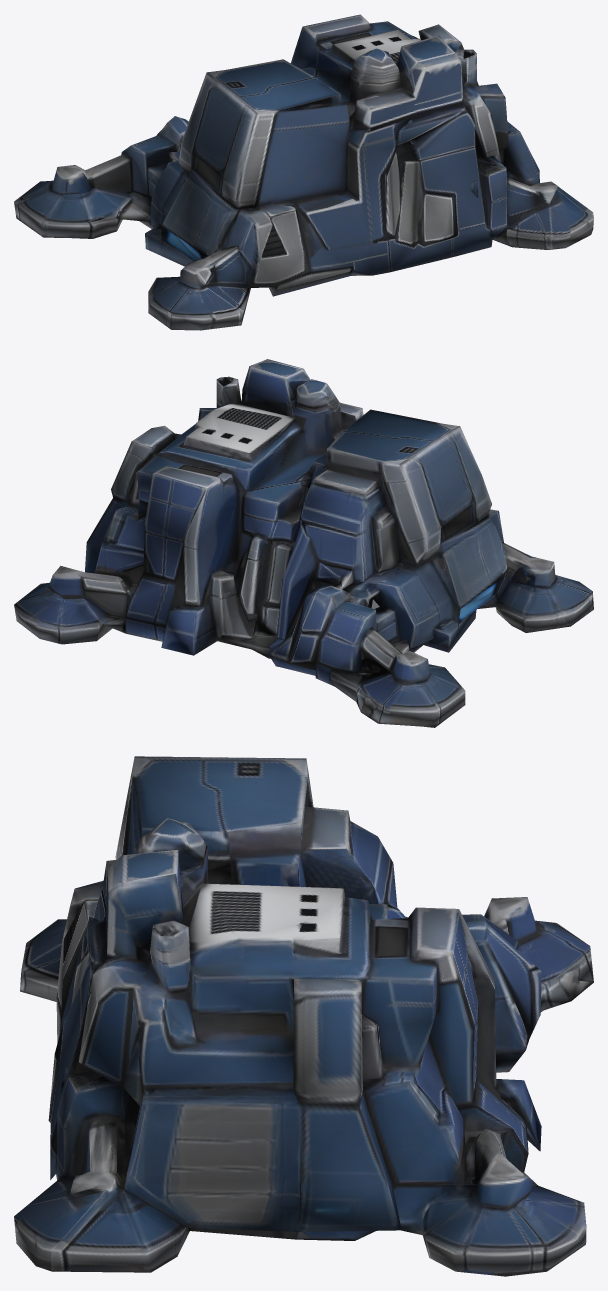
The model's file is union_engineering_bay.glb.
3 renders of one model, top to bottom at view 1: azimuth 30°, elevation 25°; view 2: azimuth 150°, elevation 25°; view 3: azimuth 270°, elevation 25°, orthographic. The views are drawn at different scales.
Size of the model in its own units: 2 by 0.8846 by 1.49.
Materials: 1 (1 with a texture image).
